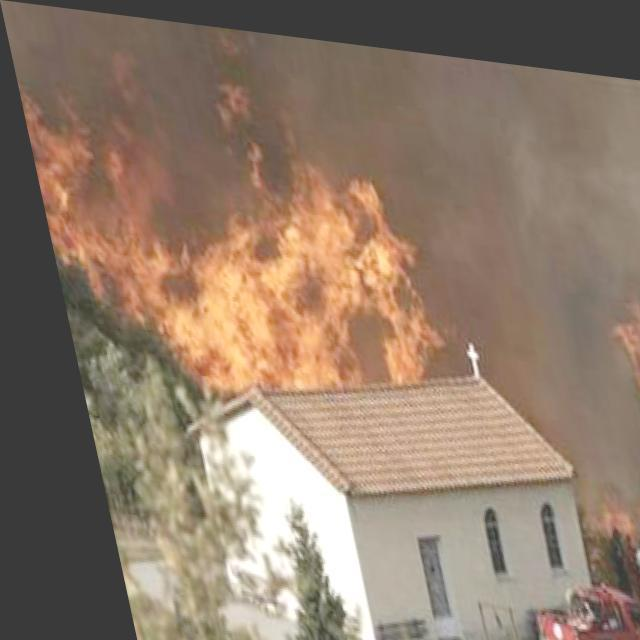Fire: (21, 77, 425, 401), (572, 289, 639, 578)
